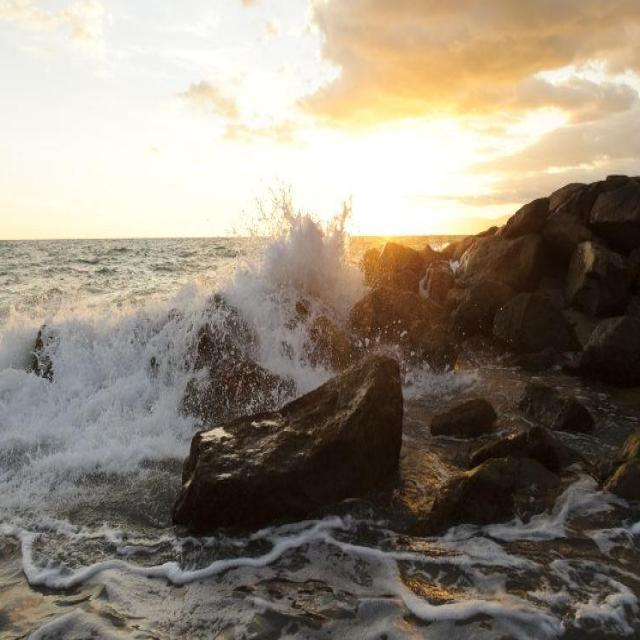reef: (50, 194, 557, 536)
